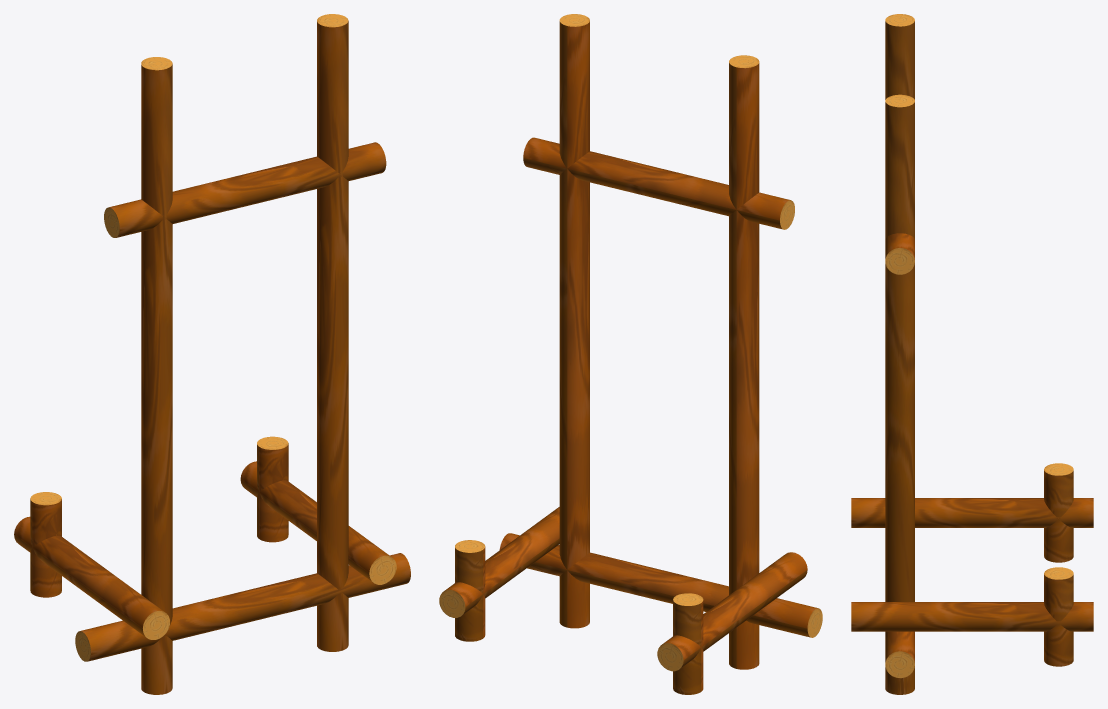
File: NOSILKA .fbx
3 renders of one model, left to right at view 1: azimuth 30°, elevation 25°; view 2: azimuth 150°, elevation 25°; view 3: azimuth 270°, elevation 25°, orthographic. The views are drawn at different scales.
Visible parts, largest first — view 1: Cylinder.007, Cylinder.006, Cylinder.010, Cylinder.008, Cylinder.011, Cylinder.012, Cylinder.013, Cylinder.014; view 2: Cylinder.007, Cylinder.006, Cylinder.008, Cylinder.010, Cylinder.011, Cylinder.012, Cylinder.014, Cylinder.013; view 3: Cylinder.007, Cylinder.012, Cylinder.011, Cylinder.013, Cylinder.014, Cylinder.006, Cylinder.010, Cylinder.008.
Boxes of the visible parts, x1,y1,x2,y2 form: Cylinder.007: (317, 14, 348, 651); Cylinder.006: (141, 57, 172, 694); Cylinder.010: (75, 553, 410, 661); Cylinder.008: (104, 142, 386, 237); Cylinder.011: (14, 516, 169, 639); Cylinder.012: (240, 461, 396, 584); Cylinder.013: (30, 492, 61, 597); Cylinder.014: (257, 436, 288, 542); Cylinder.007: (559, 14, 589, 628); Cylinder.006: (729, 55, 759, 669); Cylinder.008: (523, 137, 794, 229); Cylinder.010: (499, 533, 822, 637); Cylinder.011: (657, 552, 807, 671); Cylinder.012: (439, 507, 559, 617); Cylinder.014: (455, 540, 485, 641); Cylinder.013: (673, 593, 703, 694); Cylinder.007: (885, 94, 914, 694); Cylinder.012: (851, 602, 1093, 631); Cylinder.011: (851, 498, 1093, 527); Cylinder.013: (1044, 463, 1073, 562); Cylinder.014: (1044, 567, 1073, 666); Cylinder.006: (885, 14, 914, 99); Cylinder.010: (885, 631, 914, 678); Cylinder.008: (885, 233, 914, 274).
Size of the model in its own units: 263 by 491 by 184.
